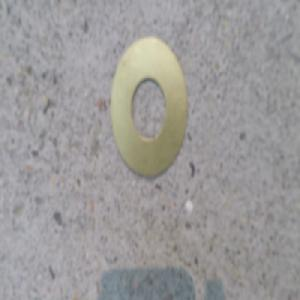Washer: (115, 57, 189, 187)
